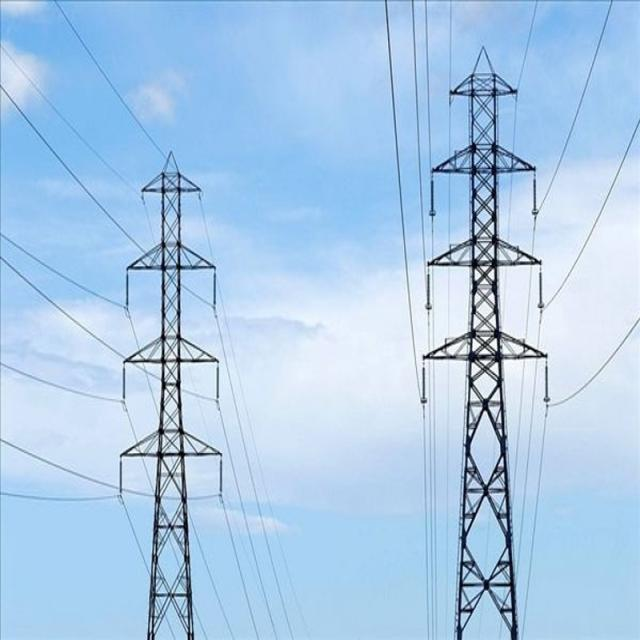non-critical vegetation: (406, 45, 550, 636), (114, 145, 234, 633)
